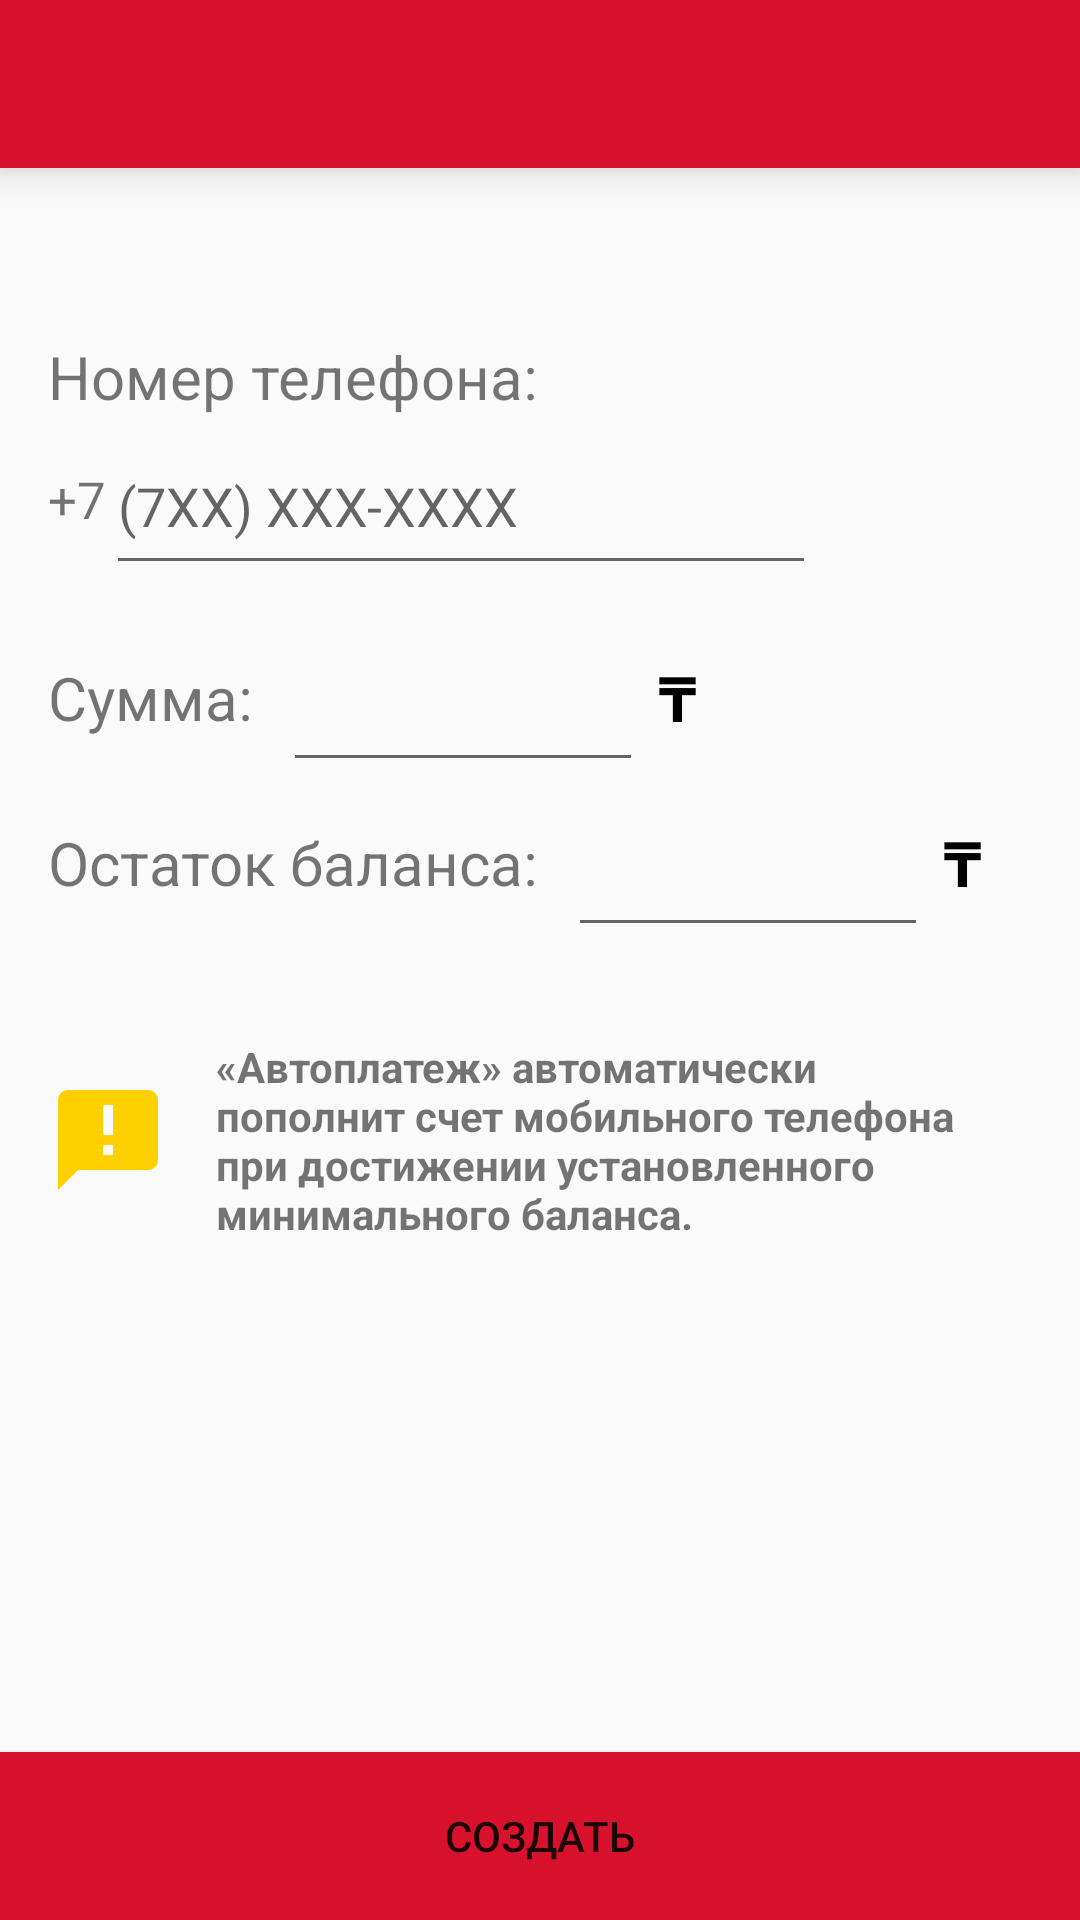

Screen size 1080×1920. Icon name, then its box in pixels as (x1,y1,x2,y2):
announcement: (58,1090,158,1190)
